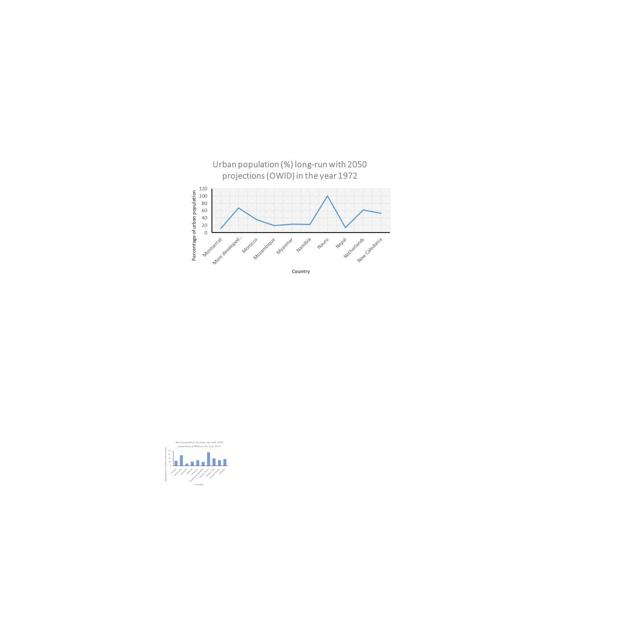Graph: (189, 158, 393, 277), (163, 440, 229, 487)
